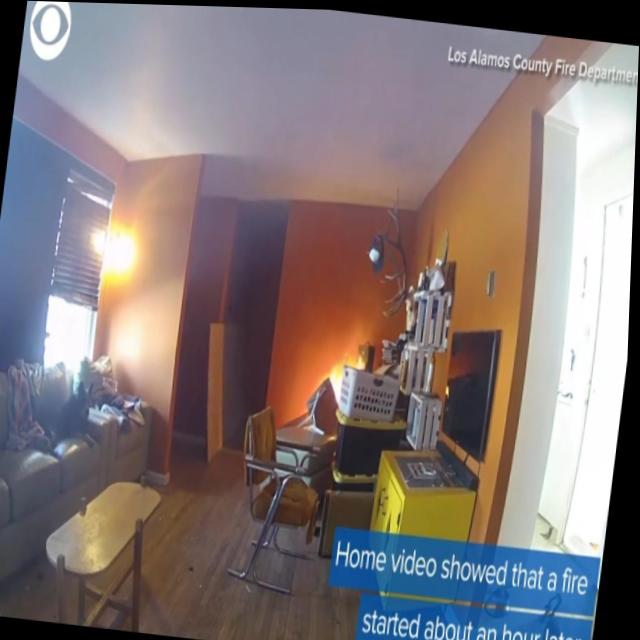fire: (324, 350, 369, 411)
